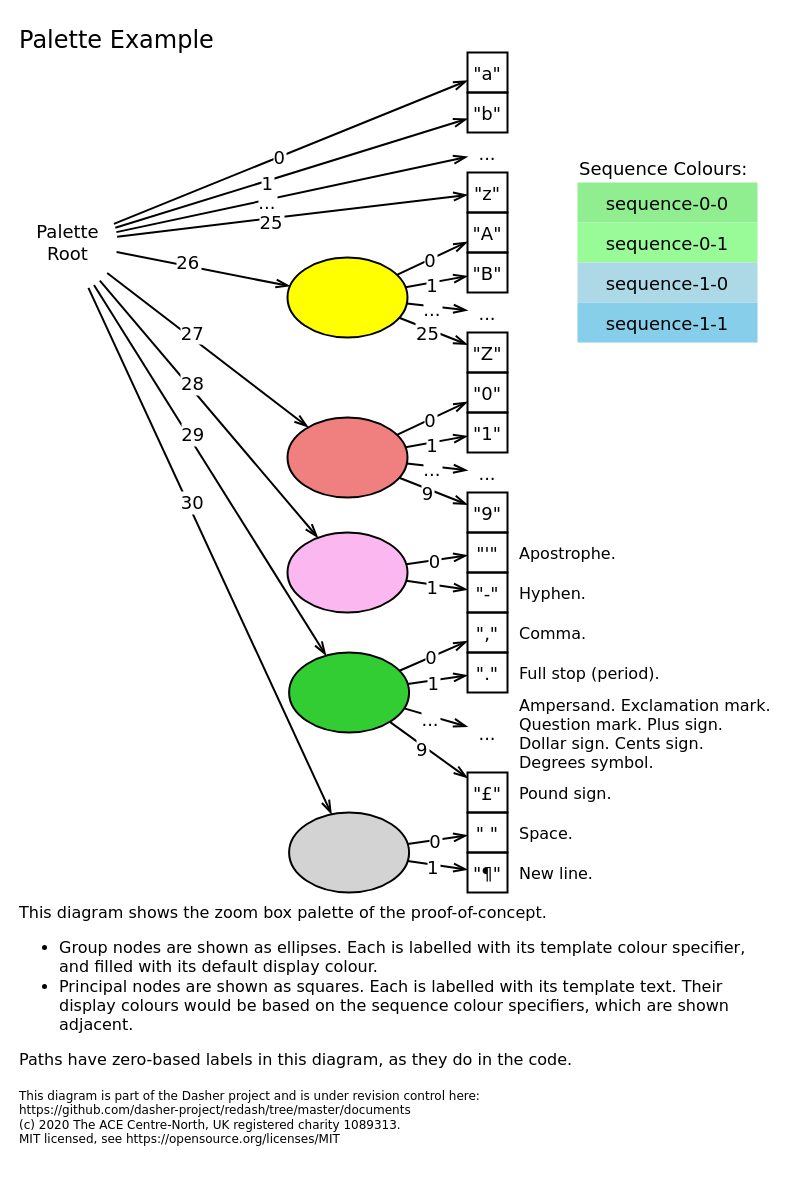
The diagram is 794 pixels wide and 1178 high, and some of its shapes have lost their labels. The shapes that lost their labels are listed below. From the top down, each one's centre as x and y in pixels, then its label:
point 347,297: capital
point 347,457: numeral
point 347,572: contraction
point 349,692: punctuation
point 349,852: space
